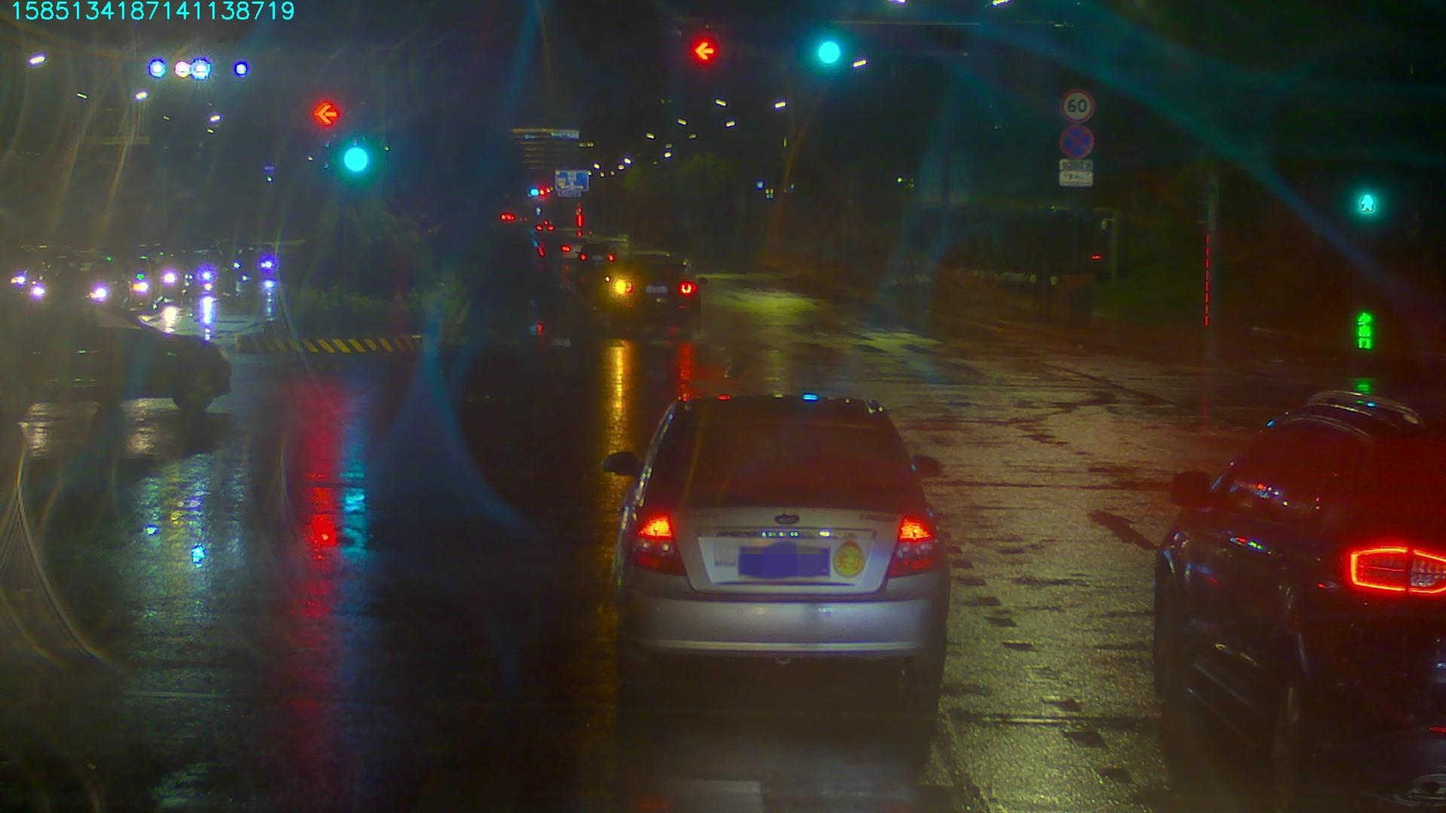green: (816, 40, 841, 67)
red: (691, 35, 715, 58)
